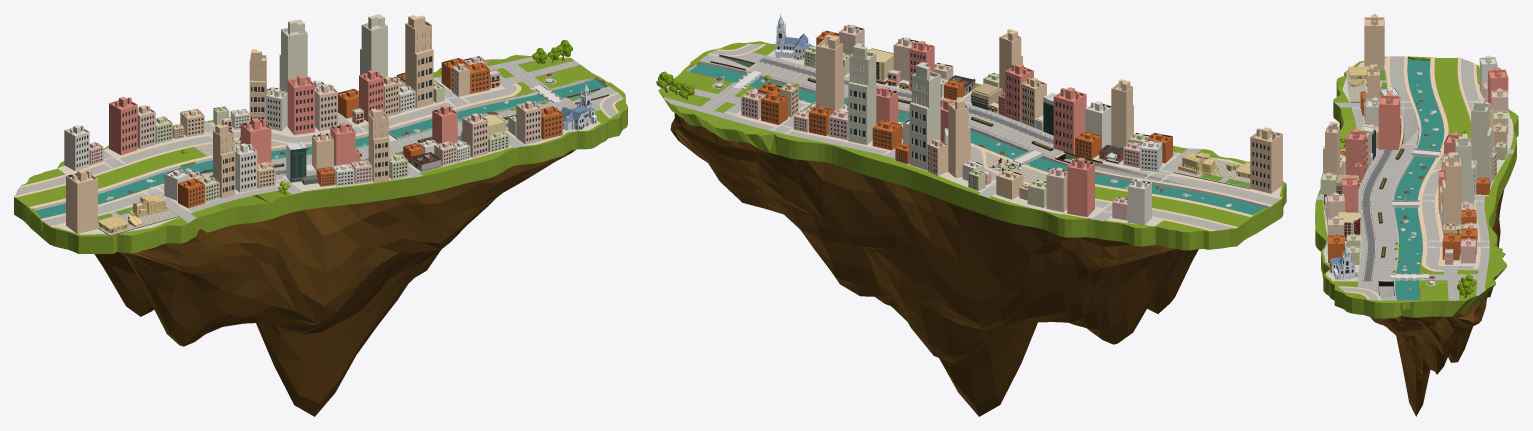
The model's file is edificios_para_editar.glb.
3 views of the same model, side by side, from view 1: azimuth 30°, elevation 25°; view 2: azimuth 150°, elevation 25°; view 3: azimuth 270°, elevation 25° (orthographic). The views are drawn at different scales.
Visible parts, largest first — view 1: isla_cesped_003001_023_174, isla_cesped_003_022_175, calle_av1norte_015_011_156, rio_agua_183, anden_av1norte_021_001_001, edificios_modelo_alto_003, cuadras_pavimento_024_021_007, edificios_modelo_medio_001, edificios_modelo_alto_002001, edificios_modelo_medio_002, edificios_modelo_medio_002004, edificios_modelo_alto_002 (+26 smaller); view 2: isla_cesped_003001_023_174, isla_cesped_003_022_175, calle_av1norte_015_011_156, rio_agua_183, bulevar_corredor_tunel_018_009_003, edificios_modelo_alto_002001, anden_av1norte_021_001_001, edificios_modelo_alto_002, edificios_modelo_medio_001, cuadras_pavimento_024_021_007, edificios_modelo_alto_003, edificios_modelo_medio_002003 (+24 smaller); view 3: isla_cesped_003_022_175, isla_cesped_003001_023_174, calle_av1norte_015_011_156, rio_agua_183, bulevar_corredor_tunel_018_009_003, anden_av1norte_021_001_001, edificios_modelo_alto_002001, edificios_modelo_alto_003, edificios_modelo_medio_002003, cuadras_pavimento_024_021_007, ciclorruta_012_018_004, edificios_modelo_medio_001 (+33 smaller).
Part boxes in pixels (x1,y1,x2,y2): isla_cesped_003001_023_174: (94, 149, 575, 416); isla_cesped_003_022_175: (14, 55, 627, 253); calle_av1norte_015_011_156: (15, 56, 622, 226); rio_agua_183: (29, 80, 605, 218); anden_av1norte_021_001_001: (14, 81, 622, 227); edificios_modelo_alto_003: (405, 15, 433, 108); cuadras_pavimento_024_021_007: (56, 82, 600, 234); edificios_modelo_medio_001: (66, 169, 97, 233); edificios_modelo_alto_002001: (279, 19, 307, 91); edificios_modelo_medio_002: (287, 75, 314, 135); edificios_modelo_medio_002004: (109, 96, 137, 155); edificios_modelo_alto_002: (360, 14, 387, 77); isla_cesped_003001_023_174: (670, 113, 1198, 416); isla_cesped_003_022_175: (658, 41, 1286, 250); calle_av1norte_015_011_156: (664, 44, 1280, 230); rio_agua_183: (689, 64, 1266, 218); bulevar_corredor_tunel_018_009_003: (699, 52, 1063, 158); edificios_modelo_alto_002001: (909, 62, 940, 170); anden_av1norte_021_001_001: (708, 44, 1281, 231); edificios_modelo_alto_002: (848, 43, 876, 144); edificios_modelo_medio_001: (1250, 127, 1282, 193); cuadras_pavimento_024_021_007: (735, 49, 1281, 226); edificios_modelo_alto_003: (816, 34, 844, 110); edificios_modelo_medio_002003: (1053, 87, 1086, 154); isla_cesped_003_022_175: (1315, 56, 1518, 318); isla_cesped_003001_023_174: (1339, 120, 1503, 416); calle_av1norte_015_011_156: (1316, 56, 1514, 300); rio_agua_183: (1394, 59, 1444, 300); bulevar_corredor_tunel_018_009_003: (1358, 145, 1417, 300); anden_av1norte_021_001_001: (1338, 56, 1481, 300); edificios_modelo_alto_002001: (1471, 98, 1492, 187); edificios_modelo_alto_003: (1442, 152, 1461, 235); edificios_modelo_medio_002003: (1378, 92, 1400, 150); cuadras_pavimento_024_021_007: (1319, 58, 1513, 281); ciclorruta_012_018_004: (1362, 149, 1391, 281); edificios_modelo_medio_001: (1364, 14, 1384, 69).
Size of the model in its own units: 46.28 by 28.32 by 16.13.
283 materials, 8 textured.
